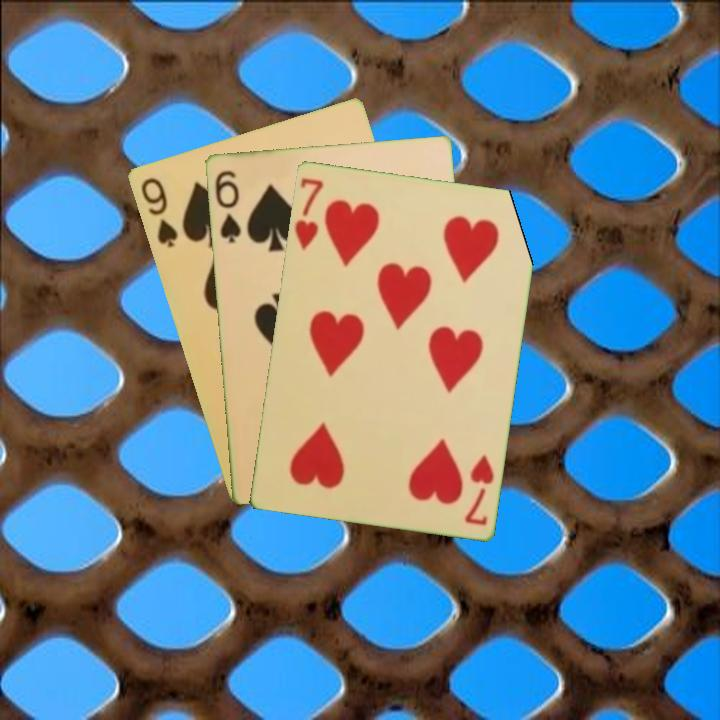6s: (211, 166, 243, 246)
7h: (460, 450, 497, 528), (290, 174, 326, 253)
9s: (136, 173, 180, 250)
